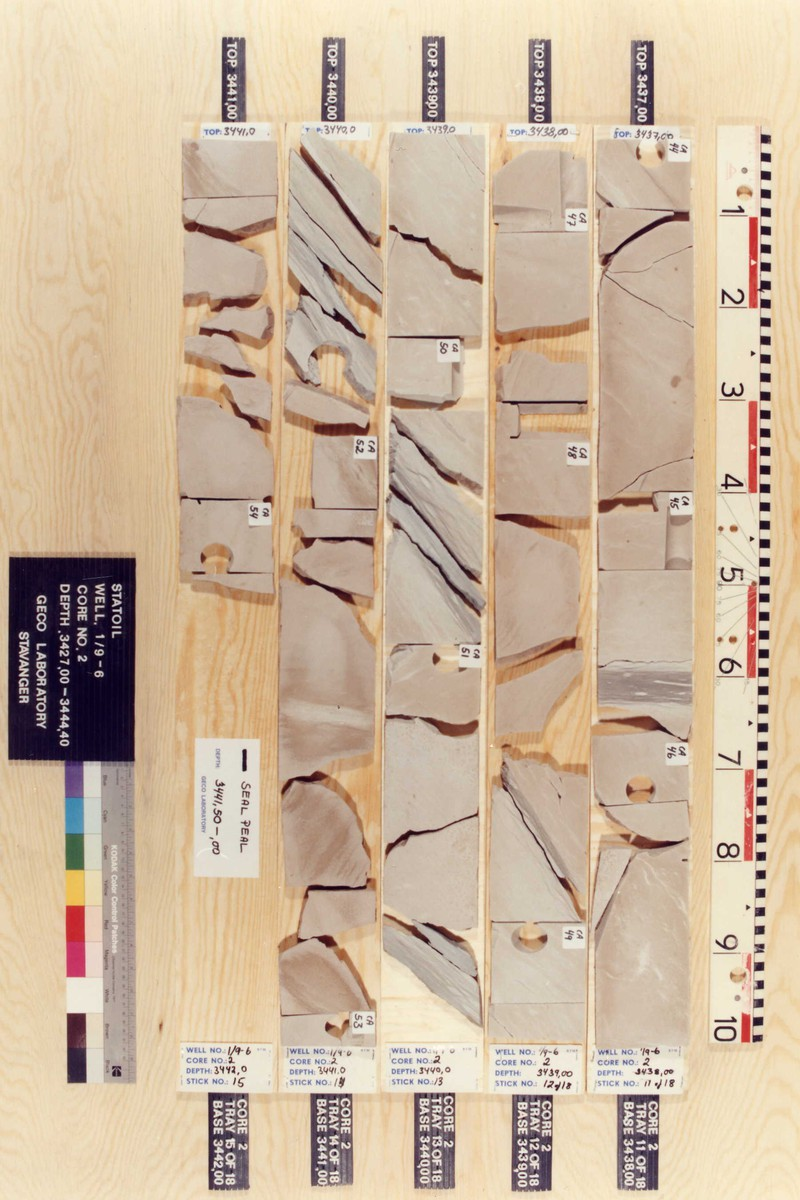core: (381, 129, 486, 1037), (595, 137, 698, 1050), (493, 151, 592, 1041), (283, 131, 376, 1050), (181, 138, 277, 598)
